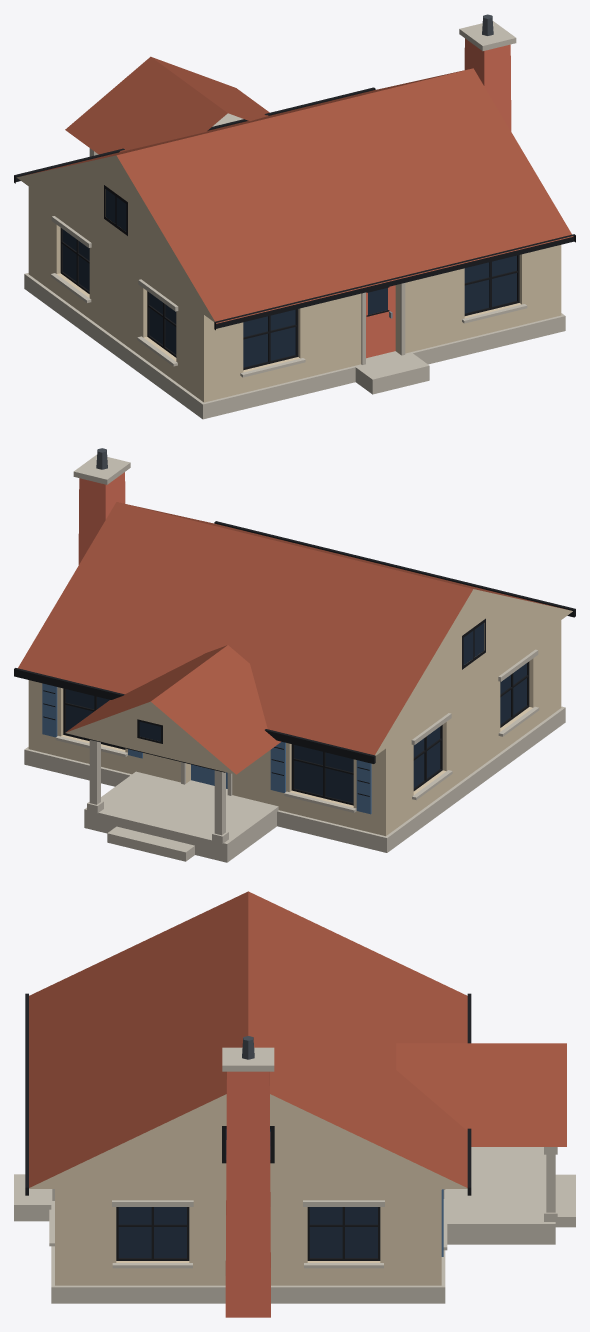
Rendered from bld_house_a.glb.
3 renders of one model, top to bottom at view 1: azimuth 30°, elevation 25°; view 2: azimuth 150°, elevation 25°; view 3: azimuth 270°, elevation 25°, orthographic. The views are drawn at different scales.
Visible parts, largest first — view 1: Body; view 2: Body; view 3: Body.
Boxes of the visible parts, x1,y1,x2,y2 form: Body: (14, 14, 575, 419); Body: (14, 448, 575, 862); Body: (14, 891, 575, 1317).
Bounding box in the file's own units: 10.99 × 6.59 × 12.35.
